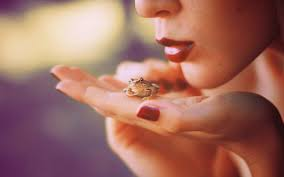hand: (48, 52, 263, 148)
